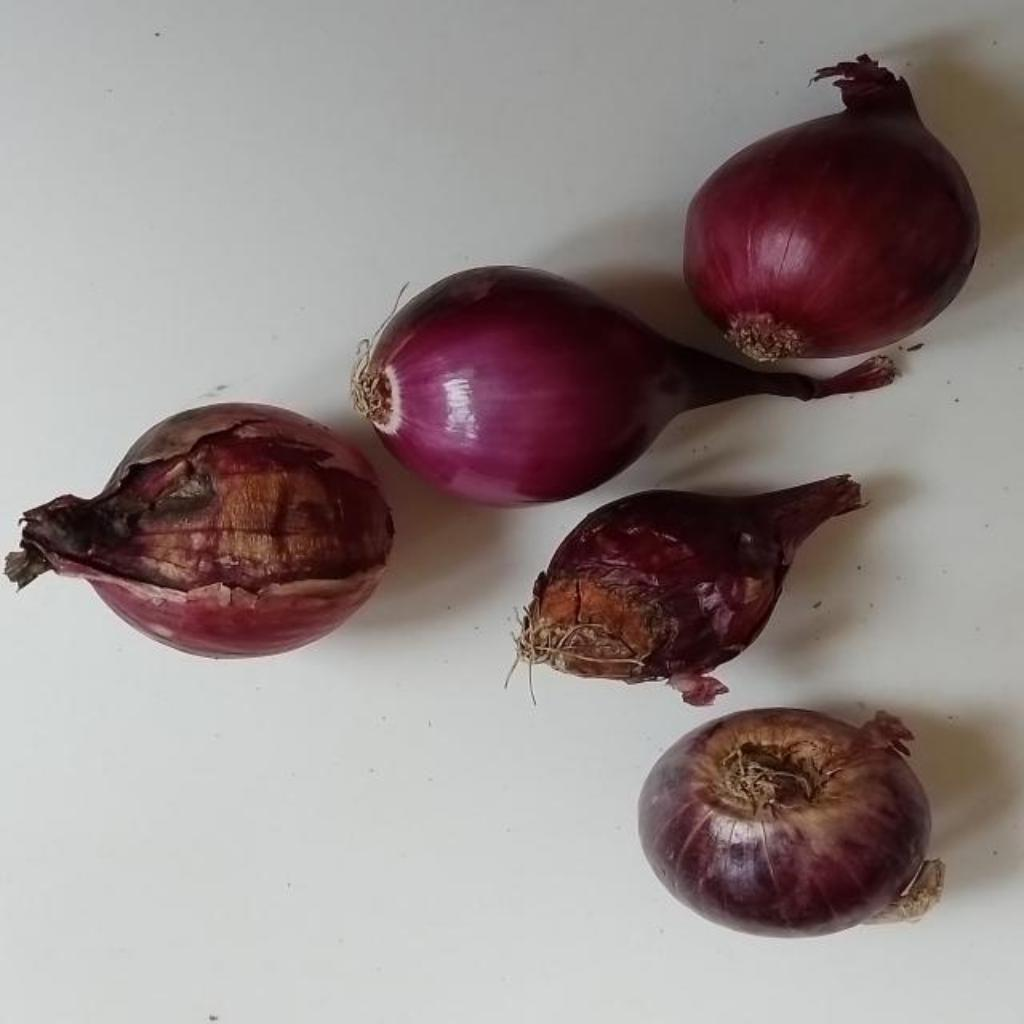Onion: (354, 266, 896, 505), (5, 403, 394, 658), (685, 53, 982, 362), (518, 477, 864, 706), (640, 710, 933, 938)
